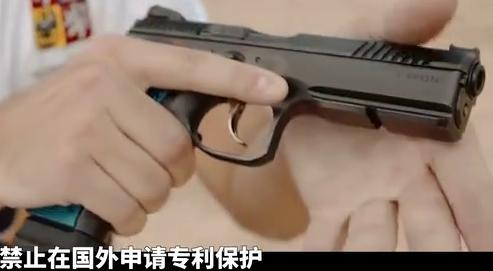gun: (1, 1, 493, 271)
